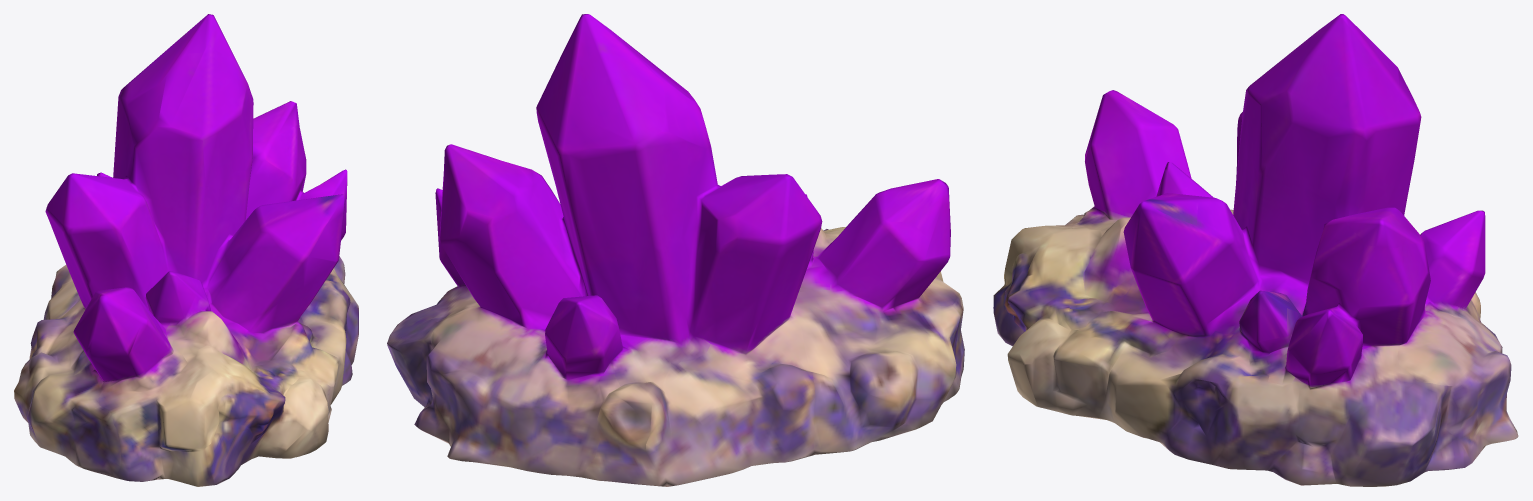
Rendered from 爆裂晶床.glb.
The picture shows the model from 3 angles, left to right: view 1: azimuth 30°, elevation 25°; view 2: azimuth 150°, elevation 25°; view 3: azimuth 270°, elevation 25°; orthographic projection. The views are drawn at different scales.
Parts seen in each view (by area): view 1: 爆裂晶床; view 2: 爆裂晶床; view 3: 爆裂晶床.
Part boxes in pixels (box(x1,y1,x2,y2)): 爆裂晶床: box(14, 14, 358, 486); 爆裂晶床: box(387, 14, 964, 486); 爆裂晶床: box(993, 14, 1518, 486).
Bounding box in the file's own units: 0.1724 × 0.1412 × 0.1686.
1 material, 1 textured.
